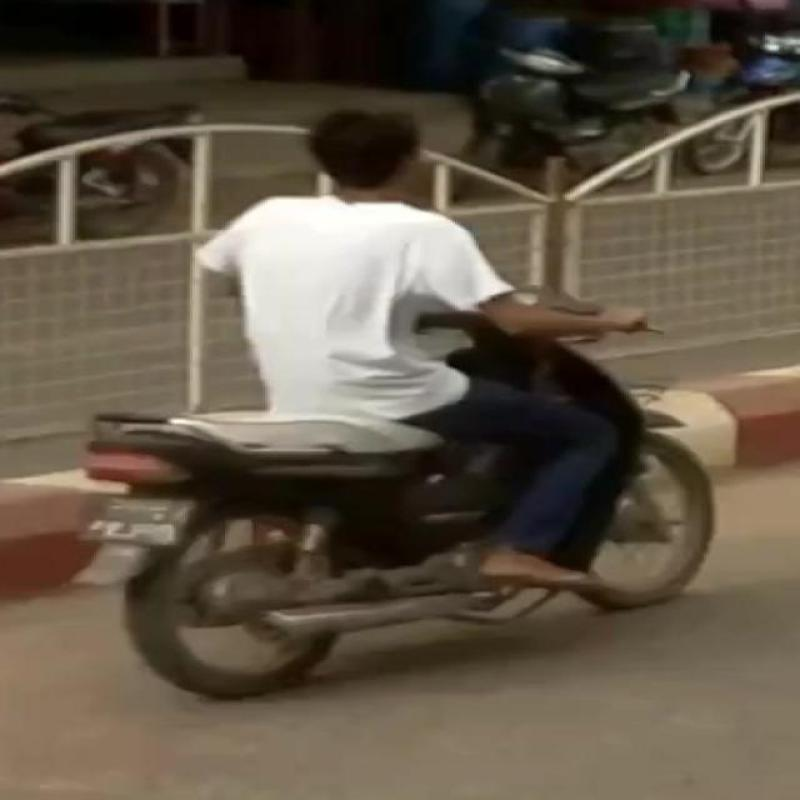nohelmet: (289, 88, 538, 222)
